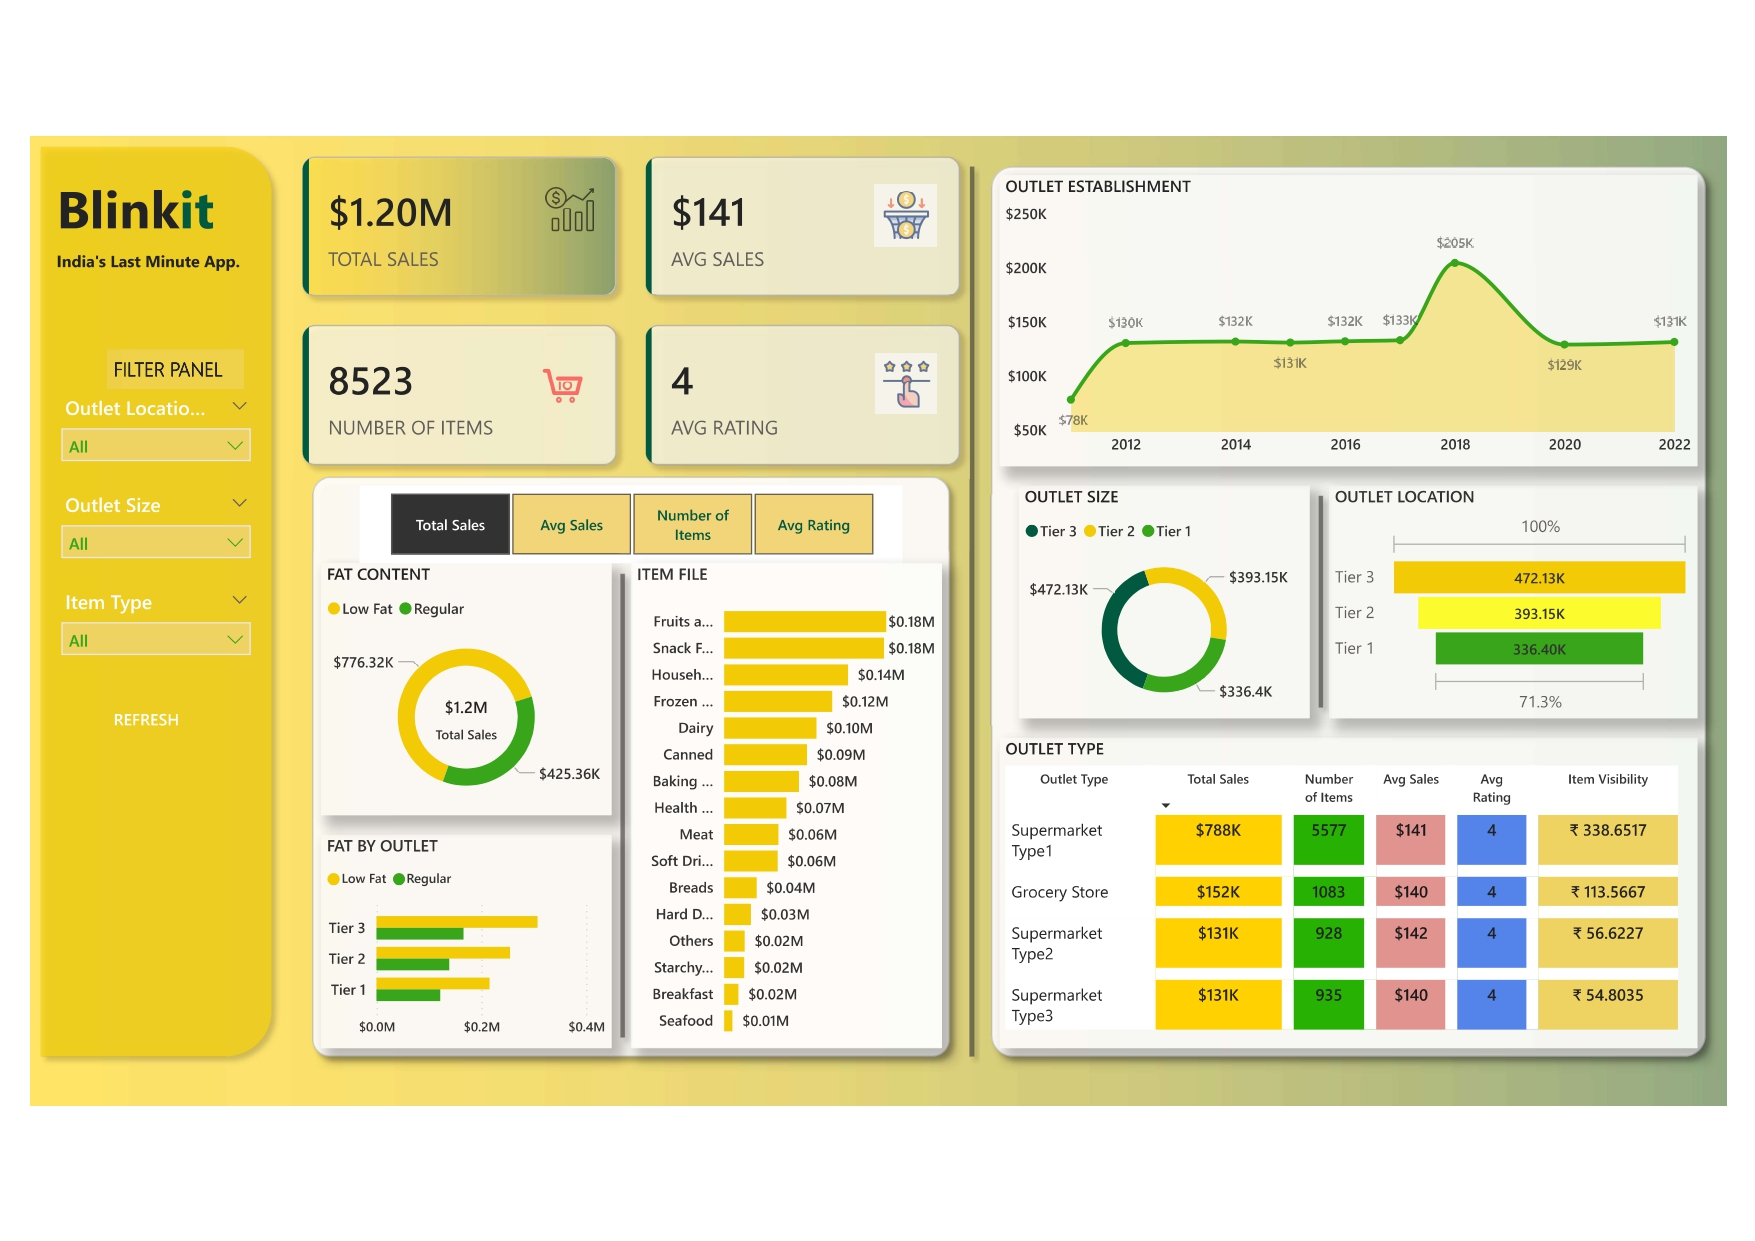

This screenshot's page, from the dashboard's own definition file:
{"tool":"powerbi","page":{"name":"Page 1","canvas":[1400,800],"ordinal":0},"visuals":[{"type":"shape","box":[0,0,208,768],"z":0},{"type":"textbox","box":[17.2,24.7,160,80],"z":1000},{"type":"textbox","box":[17.2,88.7,176,32],"z":2000},{"type":"cardVisual","fields":{"Data":["BlinkIT Grocery Data.Total Sales","BlinkIT Grocery Data.Avg Sales","BlinkIT Grocery Data.Number of Items","BlinkIT Grocery Data.Avg Rating"]},"box":[208,0,576,288],"z":3000},{"type":"shape","box":[224,272,544,496],"z":4000},{"type":"donutChart","title":"FAT CONTENT","fields":{"Y":["BlinkIT Grocery Data.Total Sales"],"Category":["BlinkIT Grocery Data.Item Fat Content"]},"box":[240,352,240,208],"z":5000},{"type":"slicer","fields":{"Values":["Metrics.Metrics"]},"box":[272,288,448,64],"z":6000},{"type":"card","fields":{"Values":["BlinkIT Grocery Data.Total Sales"]},"box":[320,432,80,96],"z":7000},{"type":"clusteredBarChart","title":"FAT BY OUTLET","fields":{"Y":["BlinkIT Grocery Data.Total Sales"],"Category":["BlinkIT Grocery Data.Outlet Location Type"],"Series":["BlinkIT Grocery Data.Item Fat Content"]},"box":[240,576,240,176],"z":8000},{"type":"shape","box":[768,16,16,752],"z":9000},{"type":"shape","box":[480,352,16,400],"z":10000},{"type":"barChart","title":"ITEM FILE","fields":{"Y":["BlinkIT Grocery Data.Total Sales"],"Category":["BlinkIT Grocery Data.Item Type"]},"box":[496,352,256,400],"z":11000},{"type":"shape","box":[784,16,608,752],"z":12000},{"type":"lineChart","title":"OUTLET ESTABLISHMENT","fields":{"Category":["BlinkIT Grocery Data.Outlet Establishment Year.Variation.Date Hierarchy.Year","BlinkIT Grocery Data.Outlet Establishment Year.Variation.Date Hierarchy.Quarter","BlinkIT Grocery Data.Outlet Establishment Year.Variation.Date Hierarchy.Month","BlinkIT Grocery Data.Outlet Establishment Year.Variation.Date Hierarchy.Day"],"Y":["BlinkIT Grocery Data.Total Sales"]},"box":[800,32,576,240],"z":13000},{"type":"donutChart","title":"OUTLET SIZE","fields":{"Y":["BlinkIT Grocery Data.Total Sales"],"Category":["BlinkIT Grocery Data.Outlet Location Type"]},"box":[816,288,240,192],"z":14000},{"type":"shape","box":[1056,288,16,192],"z":15000},{"type":"funnel","title":"OUTLET LOCATION","fields":{"Y":["Sum(BlinkIT Grocery Data.Sales)"],"Category":["BlinkIT Grocery Data.Outlet Location Type"]},"box":[1072,288,304,192],"z":16000},{"type":"pivotTable","title":"OUTLET TYPE","fields":{"Rows":["BlinkIT Grocery Data.Outlet Type"],"Values":["BlinkIT Grocery Data.Total Sales","BlinkIT Grocery Data.Number of Items","BlinkIT Grocery Data.Avg Sales","BlinkIT Grocery Data.Avg Rating","Sum(BlinkIT Grocery Data.Item Visibility)"]},"box":[800,496,576,256],"z":17000},{"type":"slicer","fields":{"Values":["BlinkIT Grocery Data.Outlet Location Type"]},"box":[16,208,176,80],"z":18000},{"type":"slicer","fields":{"Values":["BlinkIT Grocery Data.Outlet Size"]},"box":[16,288,176,80],"z":19000},{"type":"slicer","fields":{"Values":["BlinkIT Grocery Data.Item Type"]},"box":[16,368,176,80],"z":20000},{"type":"textbox","box":[64,176,112,32],"z":21000},{"type":"actionButton","box":[48,464,96,32],"z":22000}]}

Visuals, with their boxes in screenshot pixels (x1, y1, x2, y2):
shape: <region>55, 142, 303, 1057</region>
textbox: <region>75, 171, 266, 267</region>
textbox: <region>75, 247, 285, 286</region>
cardVisual - BlinkIT Grocery Data.Total Sales x BlinkIT Grocery Data.Avg Sales: <region>303, 142, 990, 485</region>
shape: <region>322, 466, 971, 1057</region>
"FAT CONTENT" donutChart: <region>341, 561, 627, 809</region>
slicer - Metrics.Metrics: <region>379, 485, 913, 561</region>
card - BlinkIT Grocery Data.Total Sales: <region>436, 657, 532, 771</region>
"FAT BY OUTLET" clusteredBarChart: <region>341, 829, 627, 1038</region>
shape: <region>971, 161, 990, 1057</region>
shape: <region>627, 561, 646, 1038</region>
"ITEM FILE" barChart: <region>646, 561, 952, 1038</region>
shape: <region>990, 161, 1715, 1057</region>
"OUTLET ESTABLISHMENT" lineChart: <region>1009, 180, 1696, 466</region>
"OUTLET SIZE" donutChart: <region>1028, 485, 1314, 714</region>
shape: <region>1314, 485, 1333, 714</region>
"OUTLET LOCATION" funnel: <region>1333, 485, 1696, 714</region>
"OUTLET TYPE" pivotTable: <region>1009, 733, 1696, 1038</region>
slicer - BlinkIT Grocery Data.Outlet Location Type: <region>74, 390, 284, 485</region>
slicer - BlinkIT Grocery Data.Outlet Size: <region>74, 485, 284, 580</region>
slicer - BlinkIT Grocery Data.Item Type: <region>74, 580, 284, 676</region>
textbox: <region>131, 352, 265, 390</region>
actionButton: <region>112, 695, 227, 733</region>
